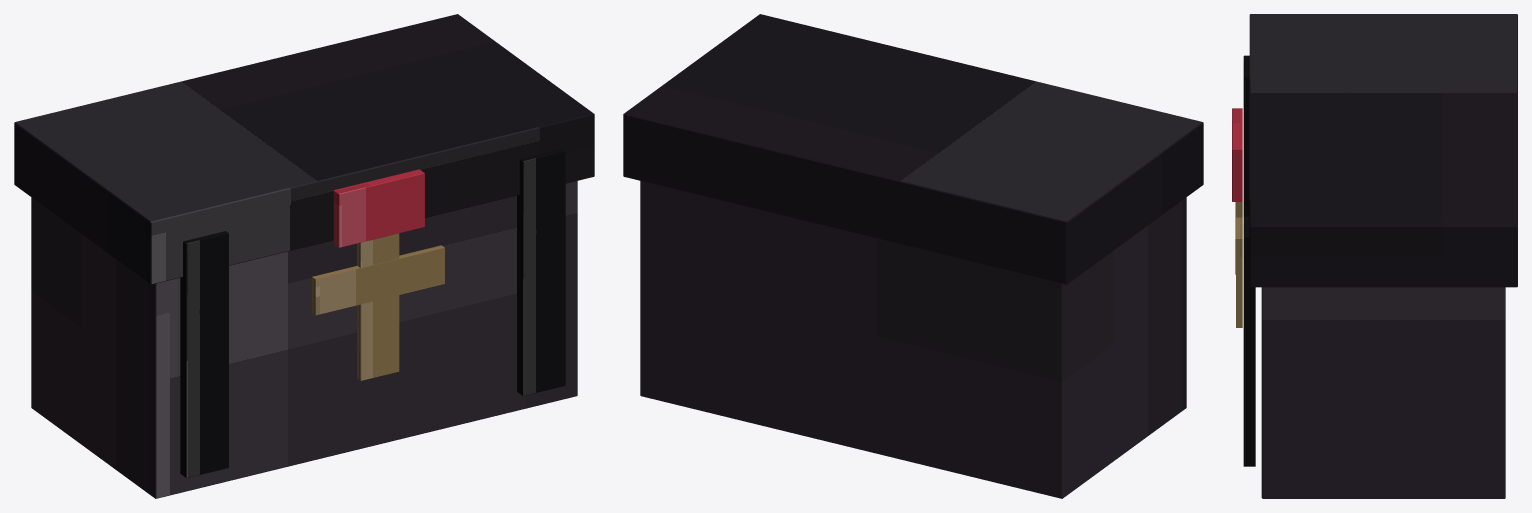
The model's file is gothic_coffin_chest.glb.
3 views of the same model, side by side, from view 1: azimuth 30°, elevation 25°; view 2: azimuth 150°, elevation 25°; view 3: azimuth 270°, elevation 25° (orthographic). The views are drawn at different scales.
Visible parts, largest first — view 1: CoffinLid, CoffinChestBody, CoffinCorner0.39, CoffinCorner-0.39, CoffinLatch, CoffinCrossH, CoffinCrossV; view 2: CoffinChestBody, CoffinLid; view 3: CoffinLid, CoffinChestBody, CoffinCorner0.39, CoffinCorner-0.39, CoffinLatch, CoffinCrossV, CoffinCrossH.
Part boxes in pixels (left/top/right/bottom): CoffinLid: left=14, top=14, right=594, bottom=284; CoffinChestBody: left=31, top=181, right=577, bottom=498; CoffinCorner0.39: left=517, top=149, right=565, bottom=395; CoffinCorner-0.39: left=180, top=231, right=228, bottom=478; CoffinLatch: left=333, top=169, right=424, bottom=247; CoffinCrossH: left=312, top=245, right=444, bottom=315; CoffinCrossV: left=357, top=233, right=399, bottom=380; CoffinChestBody: left=640, top=181, right=1186, bottom=498; CoffinLid: left=623, top=14, right=1203, bottom=284; CoffinLid: left=1249, top=14, right=1517, bottom=287; CoffinChestBody: left=1261, top=287, right=1505, bottom=498; CoffinCorner0.39: left=1243, top=216, right=1255, bottom=466; CoffinCorner-0.39: left=1243, top=55, right=1249, bottom=216; CoffinLatch: left=1232, top=108, right=1242, bottom=201; CoffinCrossV: left=1236, top=202, right=1242, bottom=327; CoffinCrossH: left=1235, top=202, right=1242, bottom=274.
Size of the model in its own units: 1.03 by 0.63 by 0.586.
1 material, 1 textured.
